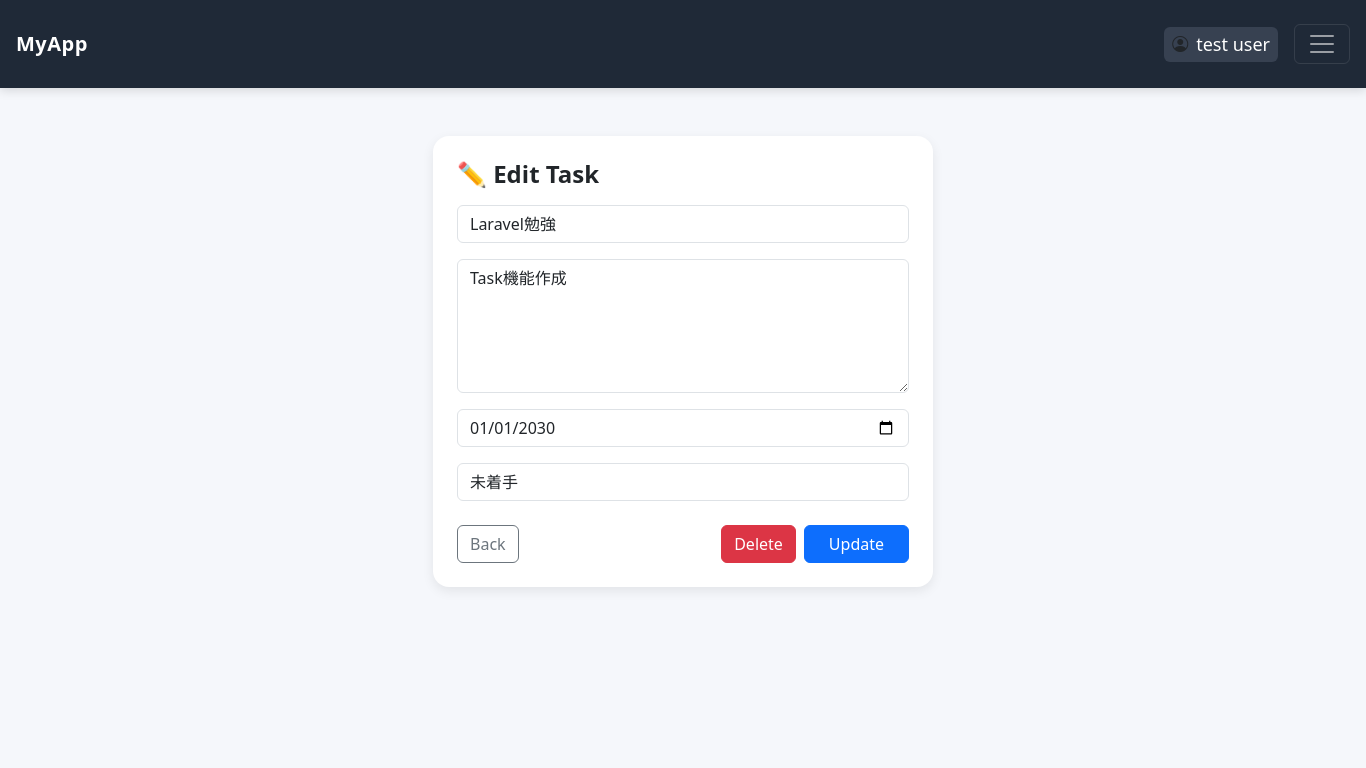
TaskEdit › 更新失敗
Expected: the field showing "Laravel勉強" is shown, [457, 205, 909, 243]
Click the button "Update" at (856, 544), box [804, 525, 909, 563]
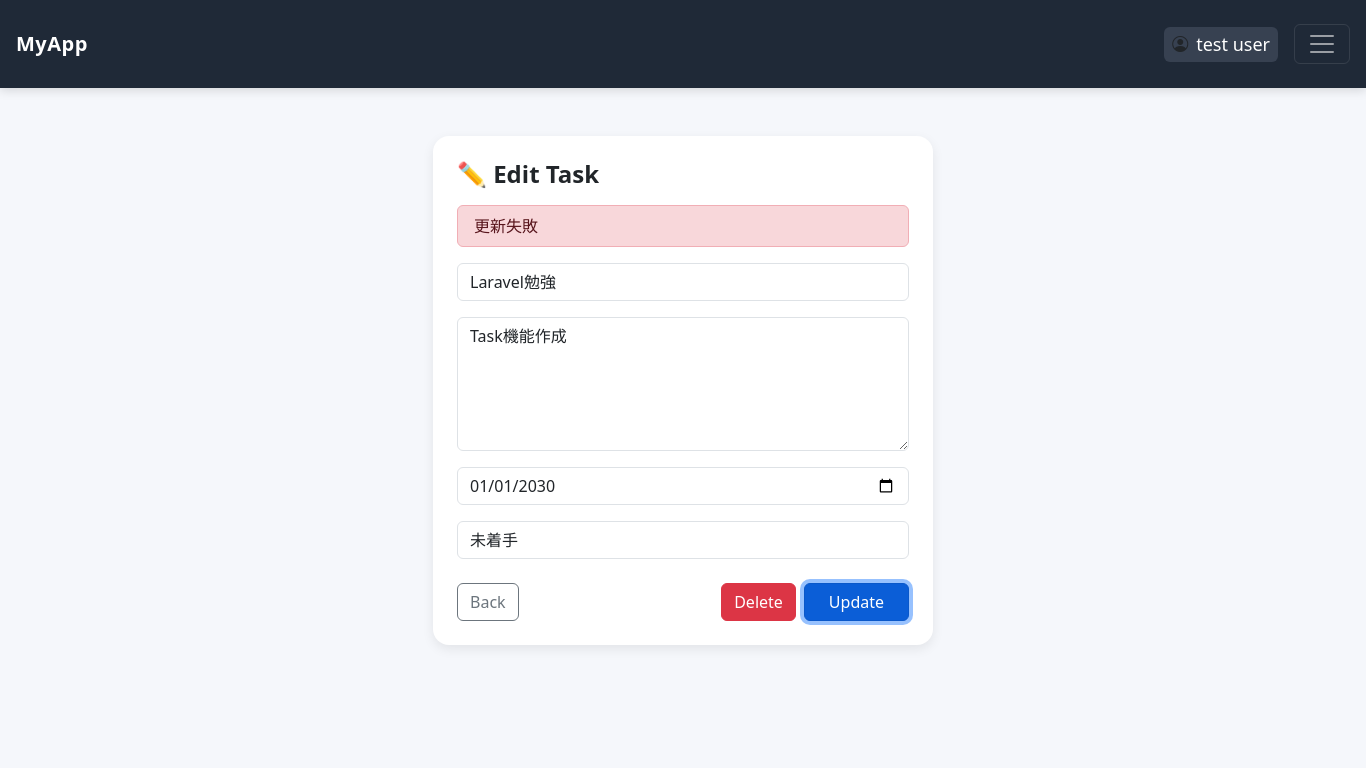
Result: the text "更新失敗" is shown at [457, 205, 909, 247]
